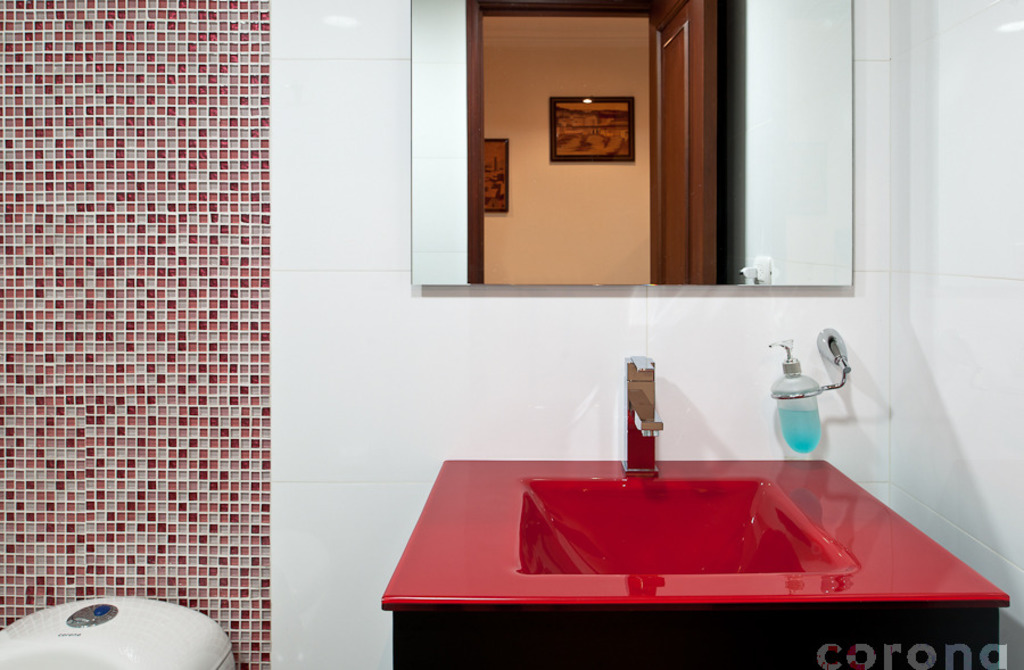tap: (618, 346, 665, 470), (621, 352, 664, 477)
